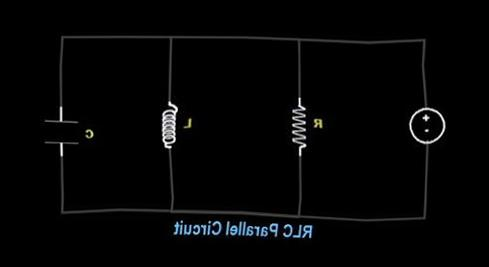Battery: (395, 97, 449, 150)
